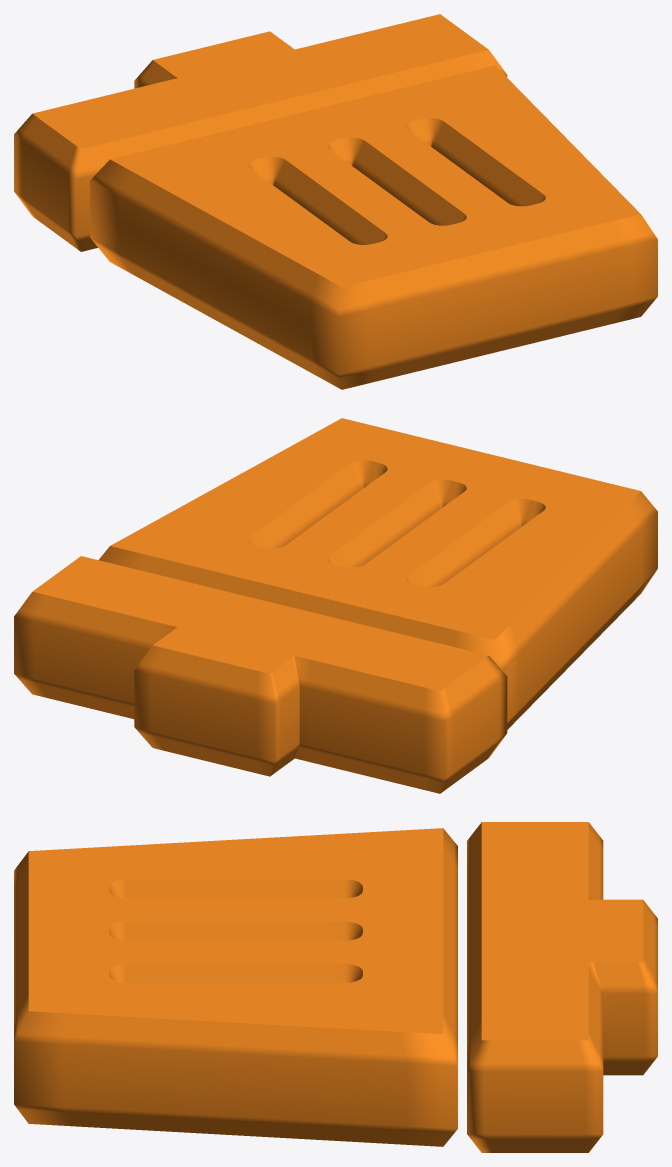
File: sign_delete.fbx
The picture shows the model from 3 angles, top to bottom: view 1: azimuth 30°, elevation 25°; view 2: azimuth 150°, elevation 25°; view 3: azimuth 270°, elevation 25°; orthographic projection. The views are drawn at different scales.
Visible parts, largest first — view 1: polySurface30; view 2: polySurface30; view 3: polySurface30.
Part boxes in pixels (bbox=[...]): polySurface30: bbox=[14, 14, 657, 389]; polySurface30: bbox=[14, 418, 657, 793]; polySurface30: bbox=[14, 822, 657, 1152].
Bounding box in the file's own units: 0.4889 × 0.1113 × 0.5767.
1 material, 1 textured.
